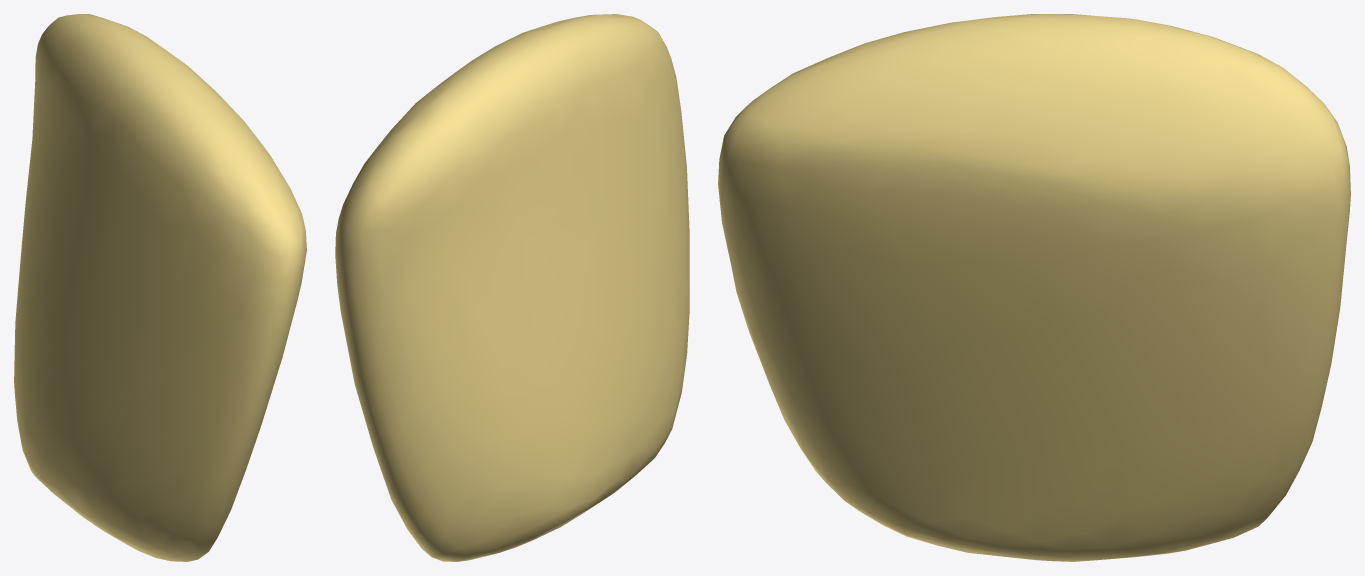
Rendered from fma73341_fj7490m.glb.
The picture shows the model from 3 angles, left to right: view 1: azimuth 30°, elevation 25°; view 2: azimuth 150°, elevation 25°; view 3: azimuth 270°, elevation 25°; orthographic projection. The views are drawn at different scales.
Parts seen in each view (by area): view 1: FMA73341_FJ7490M; view 2: FMA73341_FJ7490M; view 3: FMA73341_FJ7490M.
Part boxes in pixels (x1,y1,x2,y2): FMA73341_FJ7490M: [14, 14, 306, 561]; FMA73341_FJ7490M: [335, 14, 689, 561]; FMA73341_FJ7490M: [718, 14, 1350, 561].
Size of the model in its own units: 0.00154 by 0.00373 by 0.00394.
